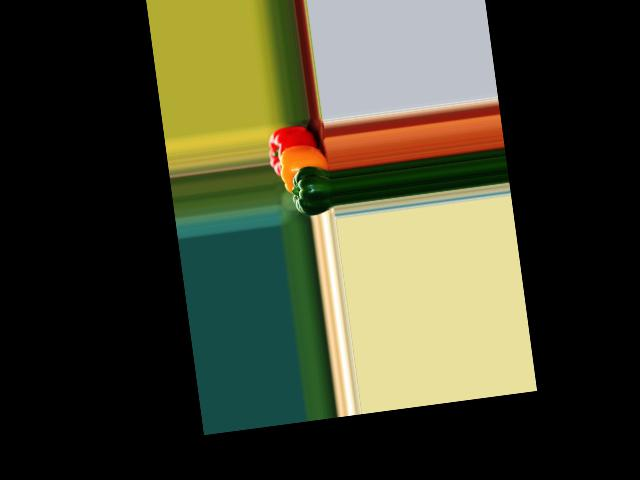bell_pepper: (266, 123, 327, 177)
